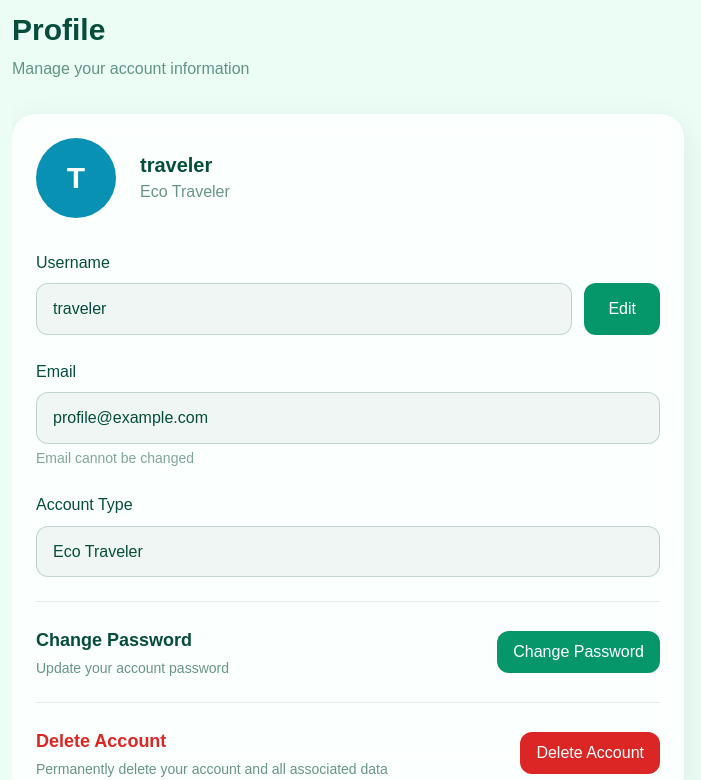
Test: ProfileTab › updates username and shows success feedback
Click the button "Edit" at (622, 309), box [584,283,660,335]
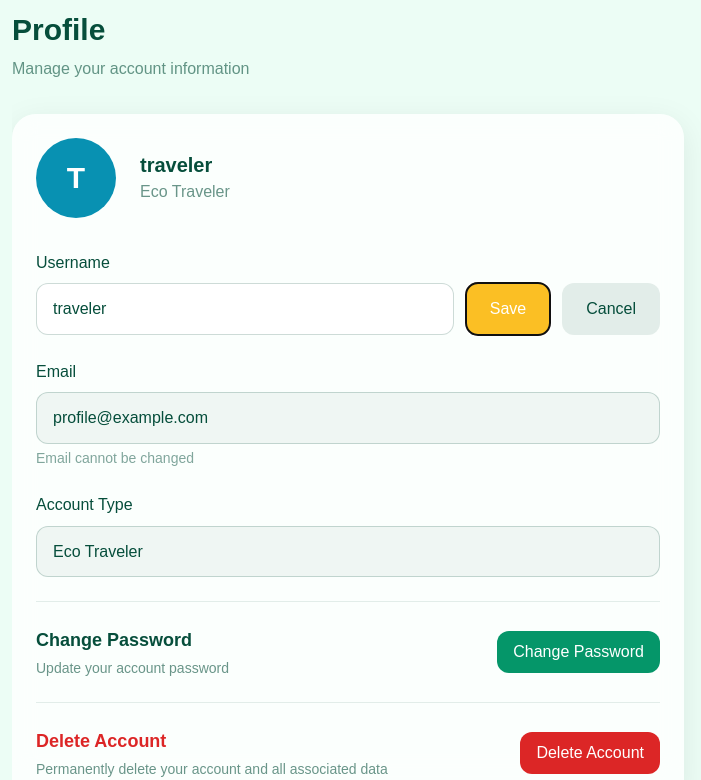
Replace the text in the field with placeholder "Enter username" below "Username" with "updated" at (245, 309), box [36,283,454,335]
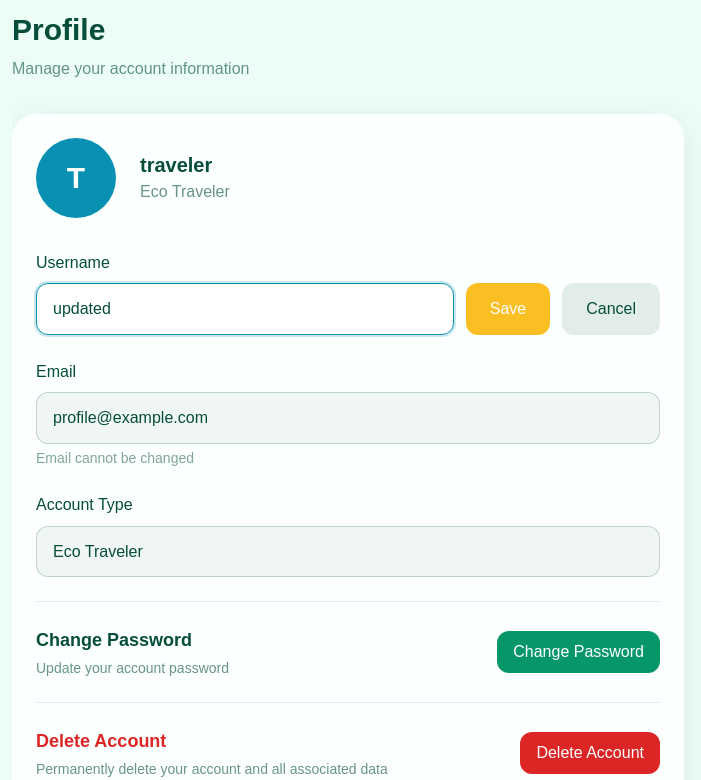
Click the button "Save" at (508, 309), box [466,283,550,335]
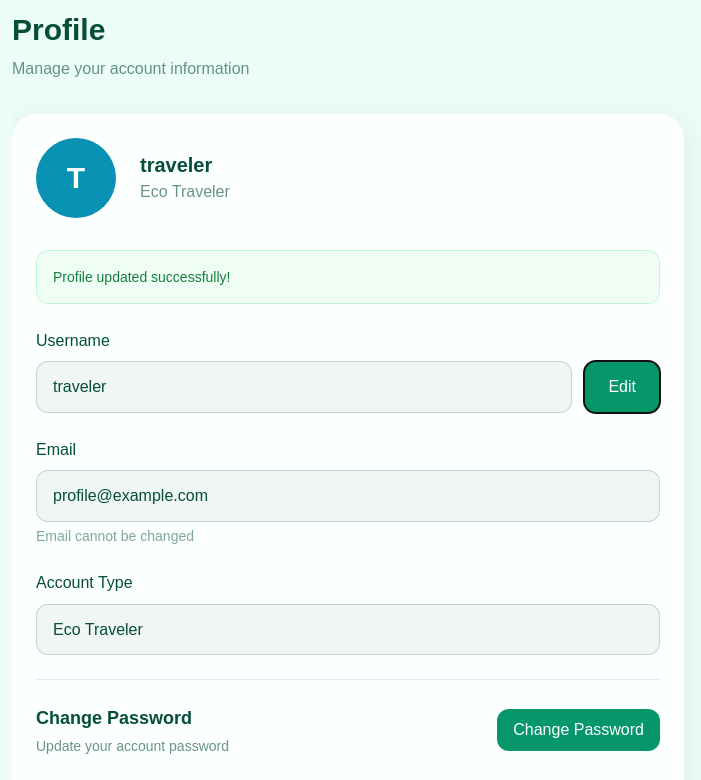
Expected: the text "Profile updated successfully!" is shown, [53,269,230,285]
